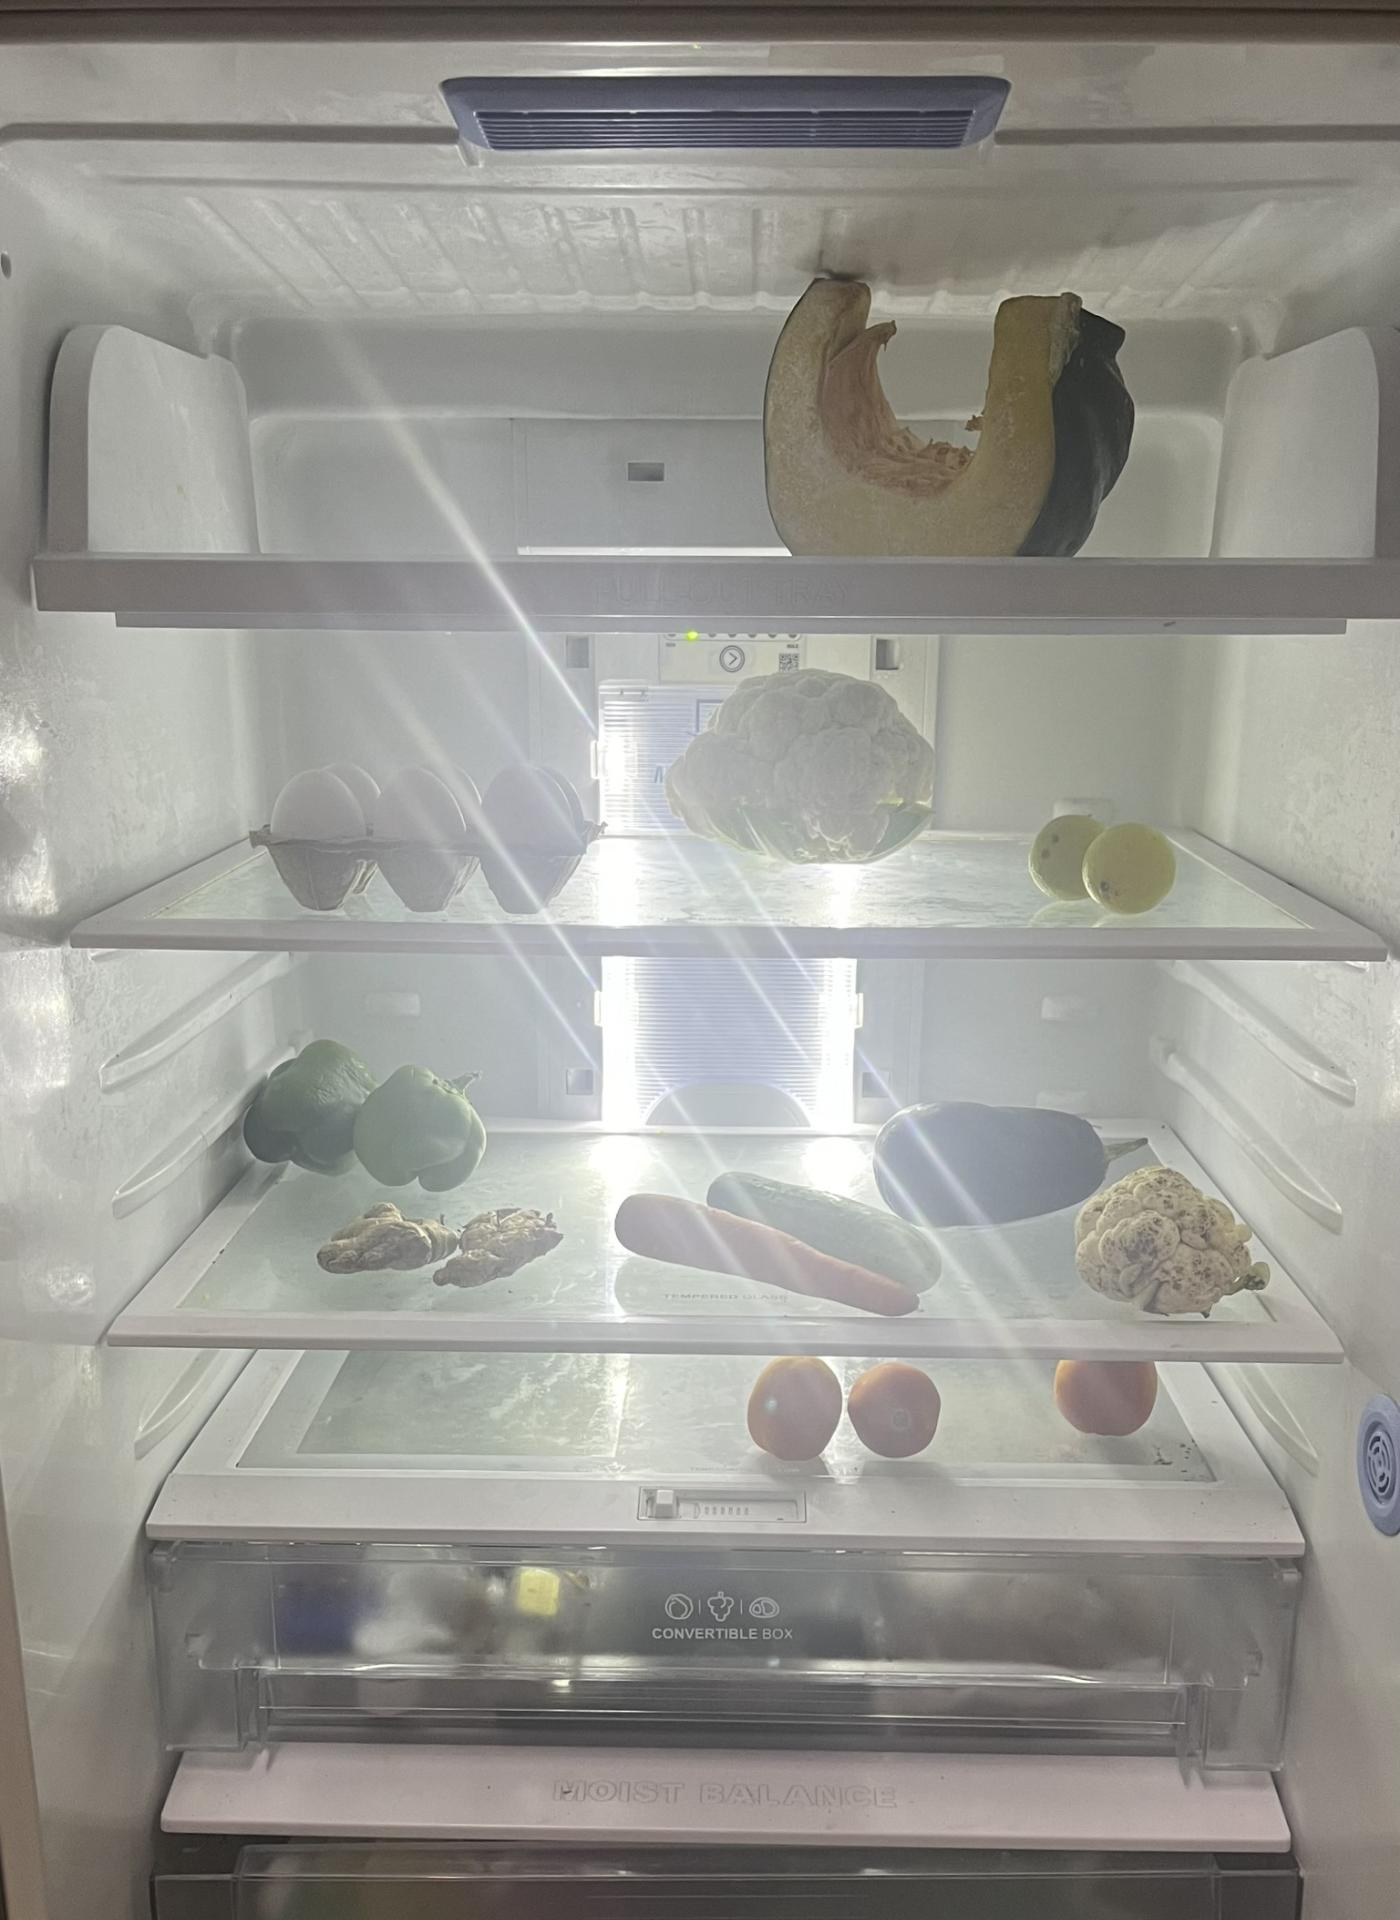capsicum: (243, 1040, 495, 1191)
carrots: (604, 1197, 923, 1306)
cauliflower: (668, 665, 926, 866), (1069, 1166, 1267, 1328)
cucumber: (717, 1163, 957, 1288)
egg: (258, 766, 599, 915)
ginger: (310, 1203, 453, 1275), (438, 1206, 568, 1278)
lemon: (1027, 806, 1188, 909)
pumpkin: (753, 256, 1136, 563)
tomato: (735, 1354, 848, 1471), (851, 1362, 945, 1468), (1048, 1357, 1170, 1437)
